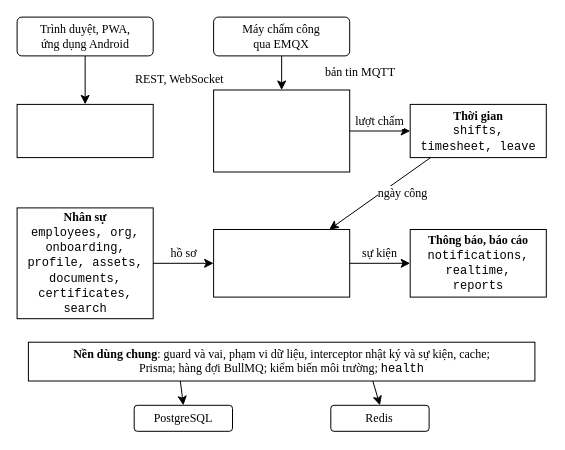
This 565x450 diagram has some shape labels left out. Each missing label, with the centre of its shape:
"Danh tính và quyền auth, users, audit" belongs at (84,130).
"Lương payroll, policy, compensation, disputes" belongs at (281,262).
"Máy chấm công devices, enrollment, models, mqtt, attendance" belongs at (281,130).
